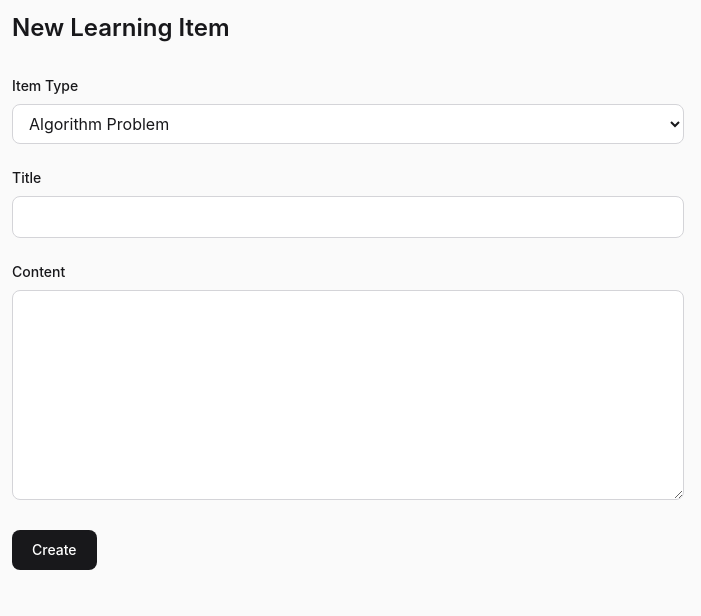
CreateLearningItemPage › タイトル未入力ならエラーを表示して登録しない
Step 1. Click the button "Create" → (54, 550), box left=12, top=530, right=97, bottom=570
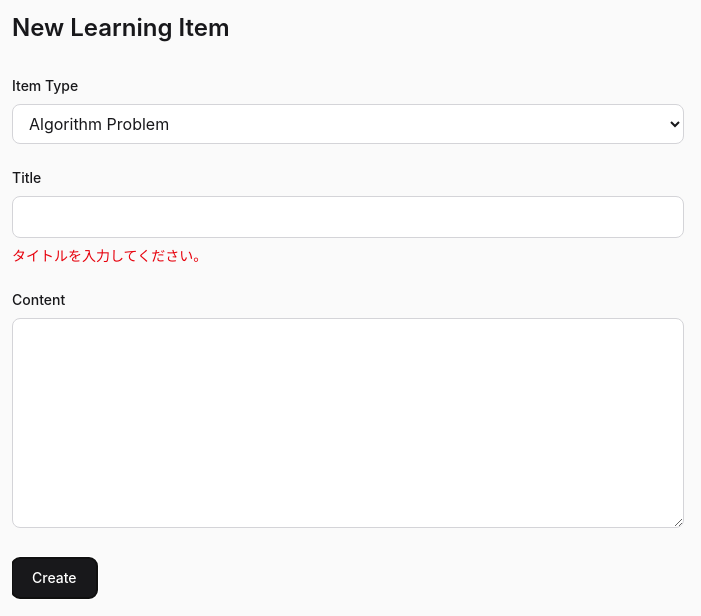
expect the text "タイトルを入力してください。" is shown: met, box left=12, top=247, right=207, bottom=264
